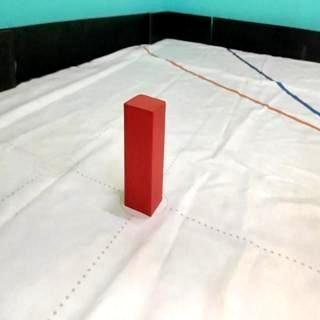redbox: (122, 94, 166, 218)
